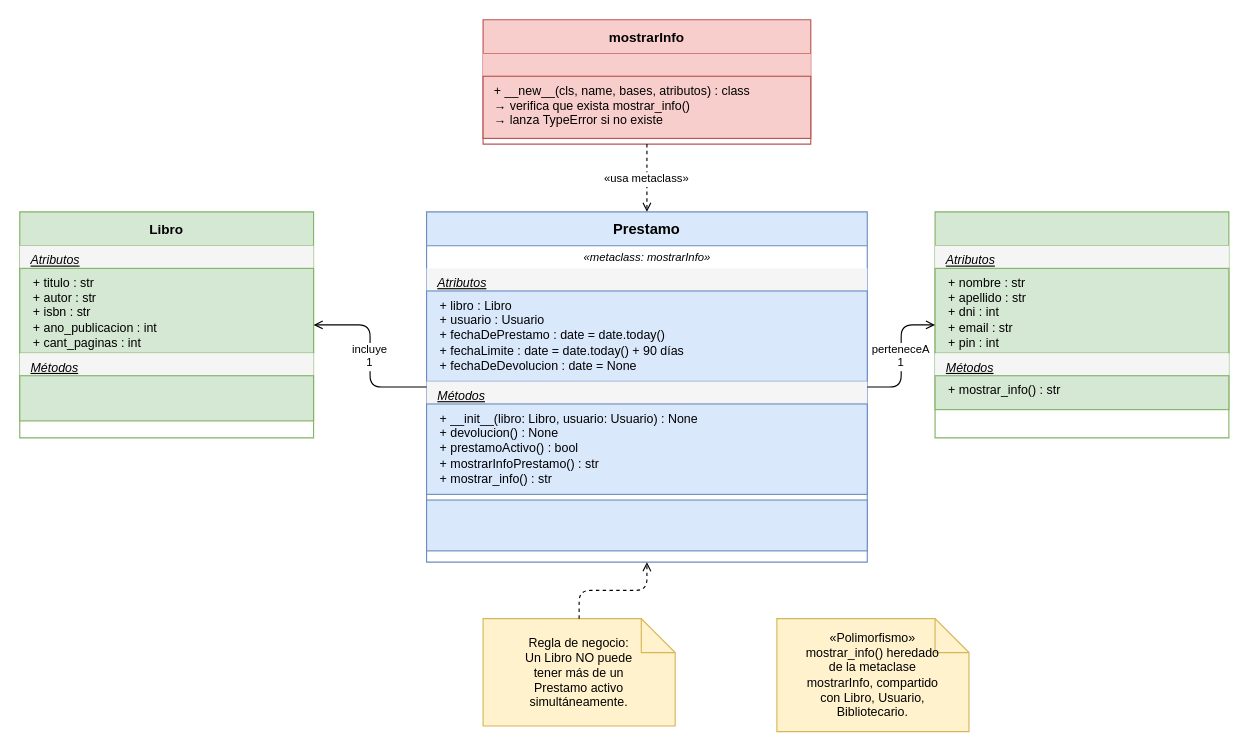
This 1249x751 diagram has some shape labels left out. The box of each missing label's shape, as (x1, y1, x2, y2) in pixels:
+ mostrar_libro() : dict + mostrar_info() : str: (19, 375, 314, 421)
prestamoActivo() retorna True si fechaDeDevolucion es None: (425, 499, 867, 551)
Usuario: (934, 211, 1229, 438)
«metaclass» (hereda de type): (483, 53, 810, 76)
